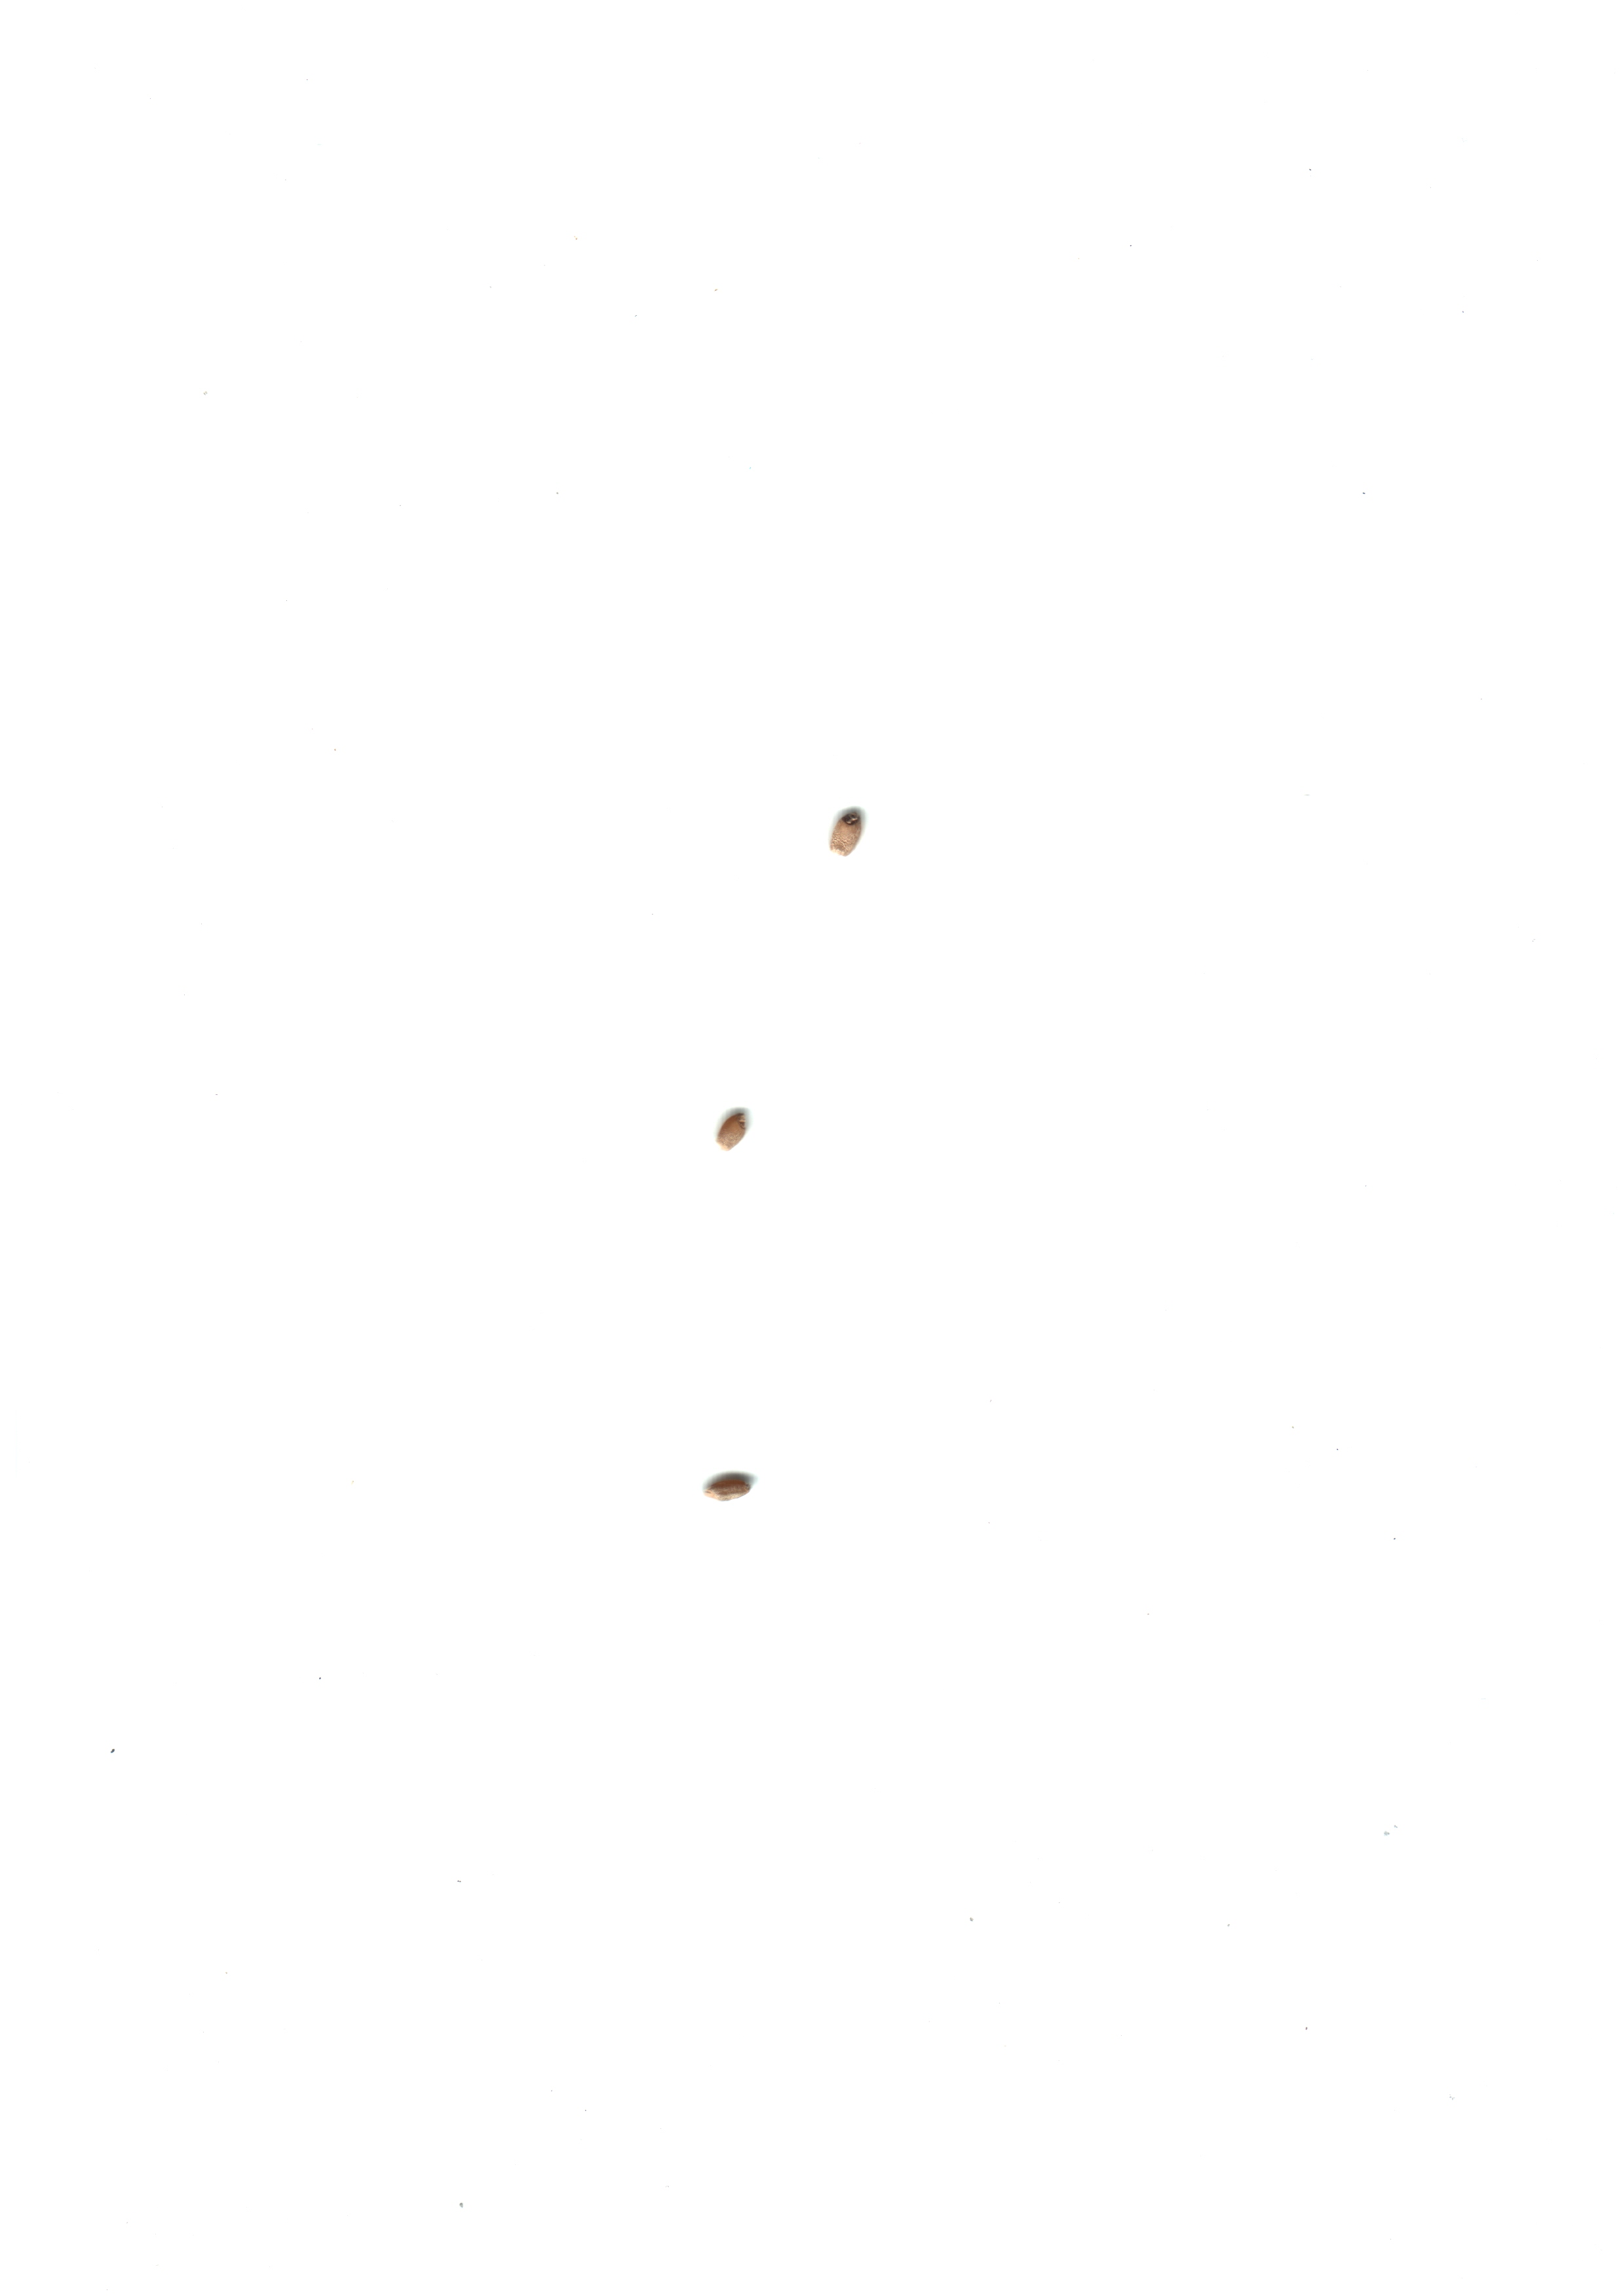grains_3mm: (683, 1083, 778, 1171), (682, 1439, 776, 1525), (802, 783, 897, 869)
